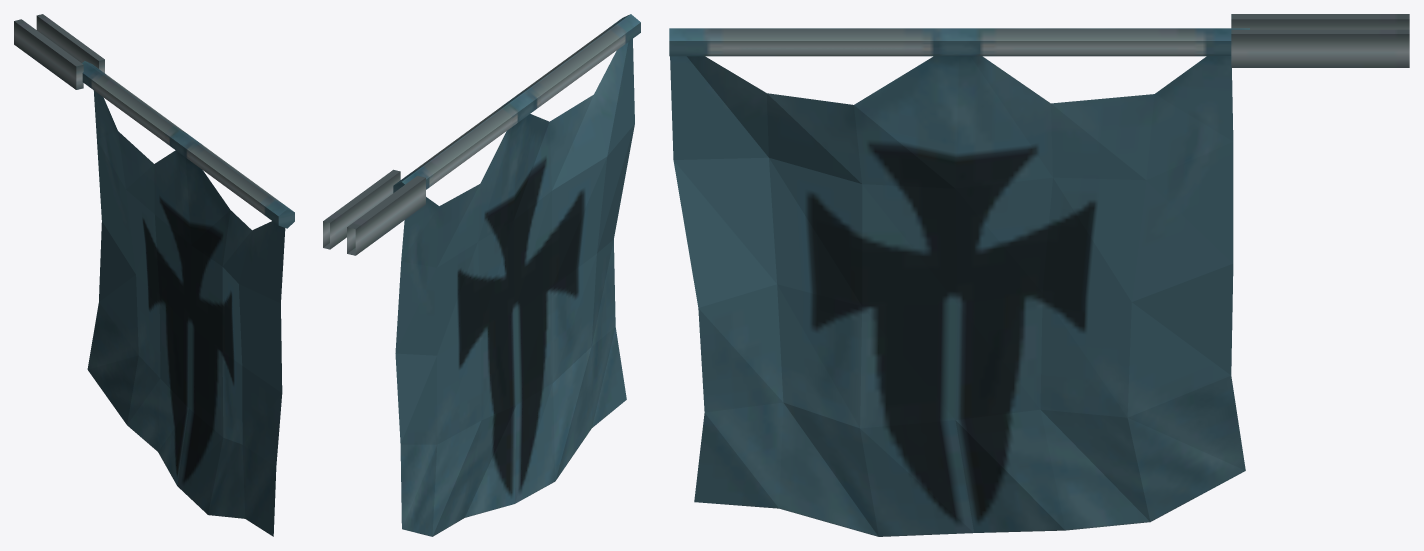
File: XFlag_H.obj
The picture shows the model from 3 angles, left to right: view 1: azimuth 30°, elevation 25°; view 2: azimuth 150°, elevation 25°; view 3: azimuth 270°, elevation 25°; orthographic projection. The views are drawn at different scales.
Visible parts, largest first — view 1: Node 0; view 2: Node 0; view 3: Node 0.
Boxes of the visible parts, <box> form: Node 0: <box>14,14,294,536</box>; Node 0: <box>323,14,640,536</box>; Node 0: <box>669,14,1409,536</box>.
Bounding box in the file's own units: 0.23 × 2.75 × 3.57.
1 material, 1 textured.
